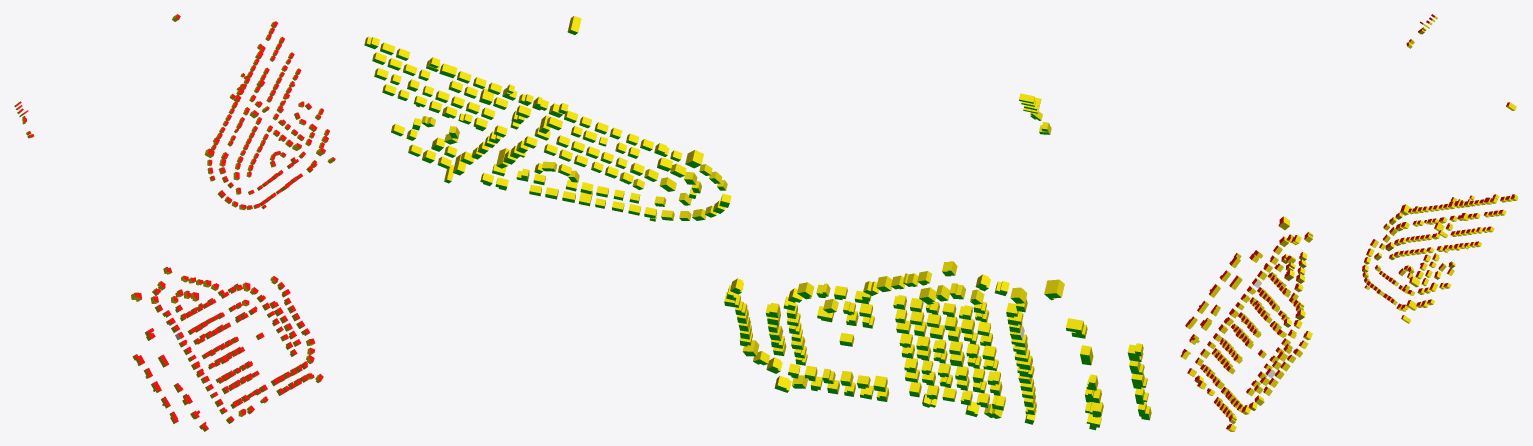
The picture shows the model from 3 angles, left to right: view 1: azimuth 30°, elevation 25°; view 2: azimuth 150°, elevation 25°; view 3: azimuth 270°, elevation 25°; orthographic projection. The views are drawn at different scales.
Parts seen in each view (by area): view 1: mesh; view 2: mesh; view 3: mesh.
Part boxes in pixels (x1,y1,x2,y2): mesh: (14, 14, 335, 431); mesh: (364, 15, 1151, 430); mesh: (1180, 14, 1518, 431).
Bounding box in the file's own units: 987 × 854 × 810.
